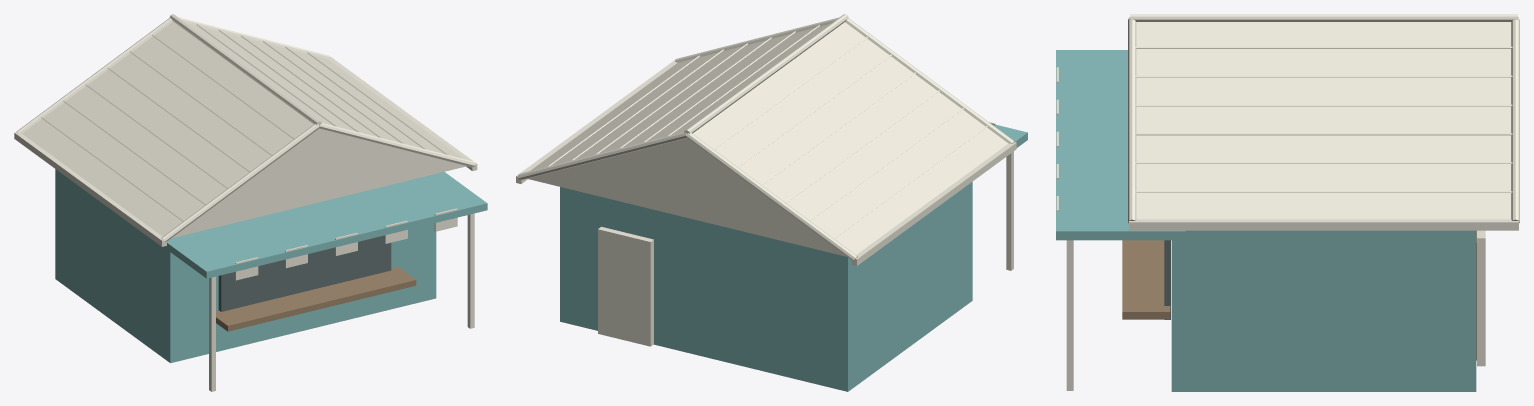
The picture shows the model from 3 angles, left to right: view 1: azimuth 30°, elevation 25°; view 2: azimuth 150°, elevation 25°; view 3: azimuth 270°, elevation 25°; orthographic projection. The views are drawn at different scales.
Bounding box in the file's own units: 8.53 × 5.72 × 8.22.
